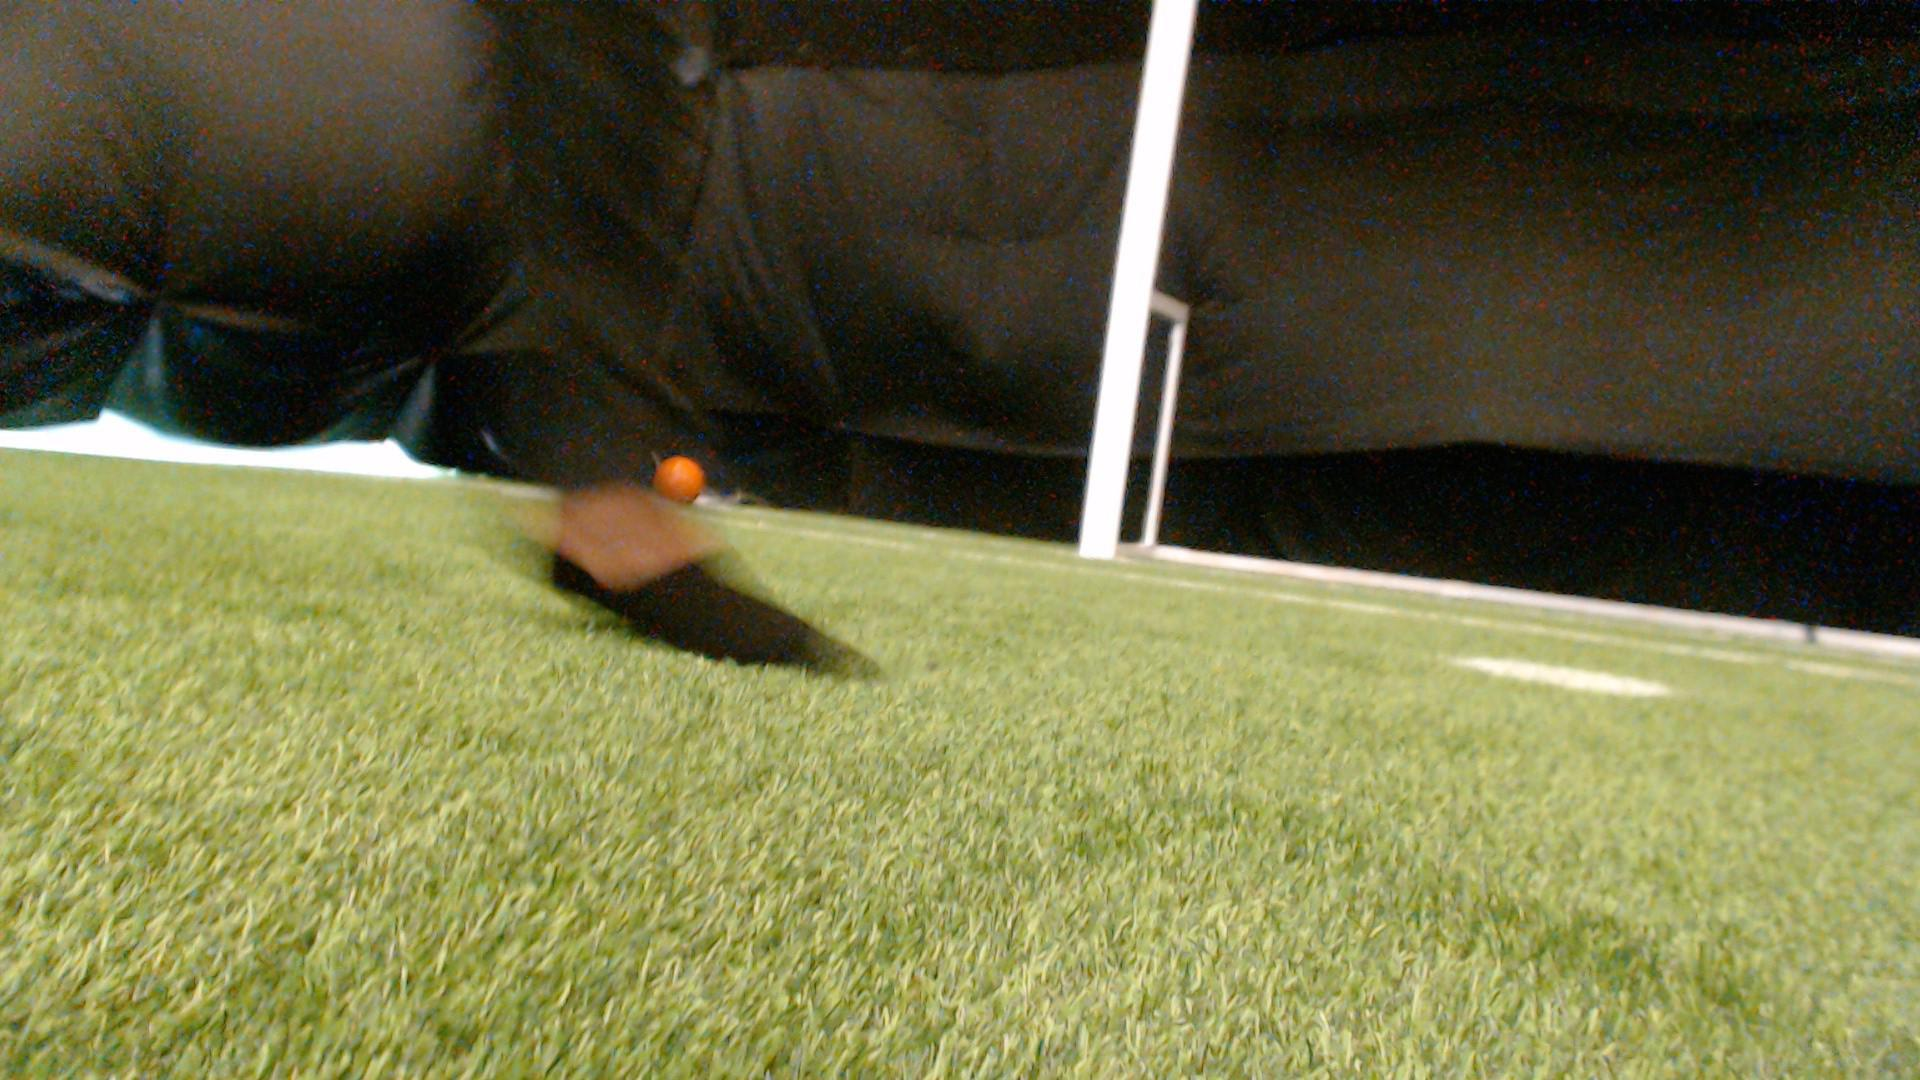bola: (651, 452, 713, 509)
